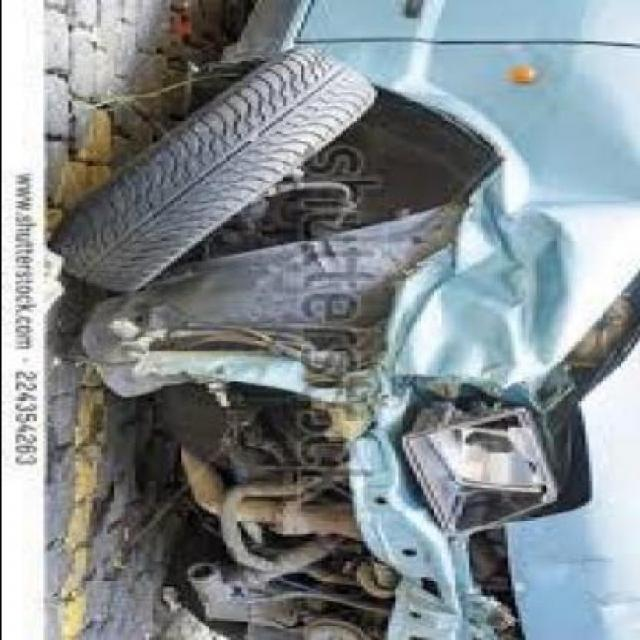damage: (76, 79, 627, 640)
